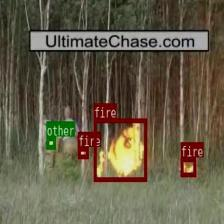fire: (93, 118, 146, 180), (180, 156, 196, 176), (77, 146, 88, 158)
